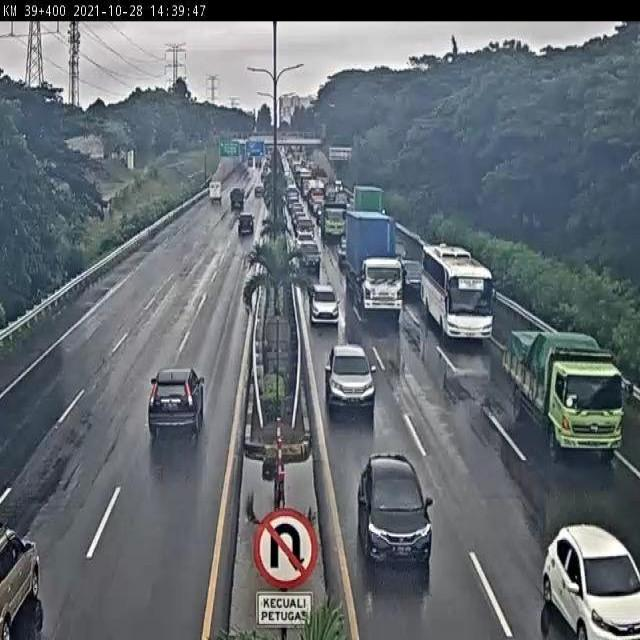big bus: (416, 230, 487, 346)
big truck: (344, 210, 404, 314), (353, 177, 390, 220)
car: (537, 513, 640, 640), (356, 448, 437, 577), (141, 356, 211, 443), (0, 506, 44, 640), (321, 340, 373, 409), (396, 253, 427, 299), (306, 282, 338, 326), (296, 238, 322, 274), (233, 213, 256, 243), (225, 187, 247, 216), (292, 224, 314, 248), (293, 210, 315, 230), (250, 186, 264, 202)
mid truck: (503, 320, 632, 460), (317, 201, 351, 244)
small truck: (203, 178, 223, 210)
